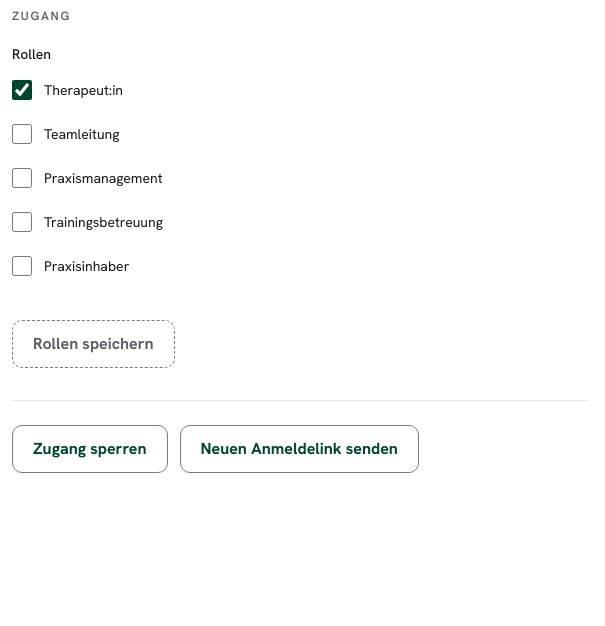
StaffAccountSection - bestehender Zugang › sperrt erst nach der Rückfrage und bestätigt es
What coordinates should you click on to do the following:
click the button "Zugang sperren"
I would click on:
 (90, 449)
Its box is [12,425,168,473].
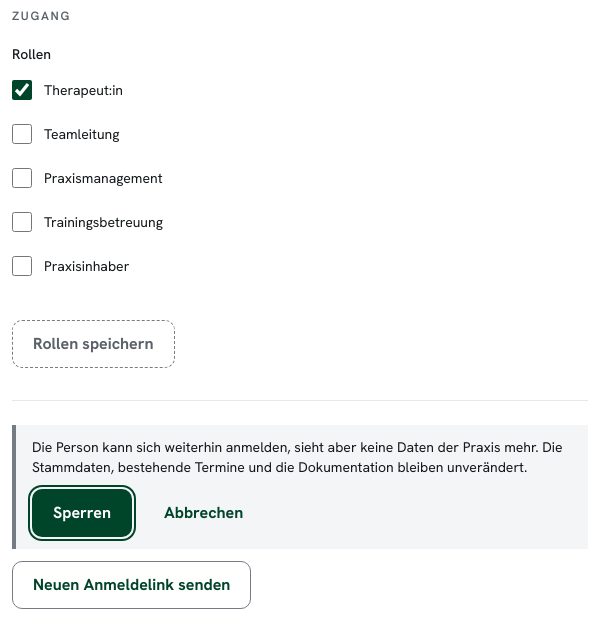
What coordinates should you click on to do the following:
click the button "Sperren"
I would click on:
 (82, 513)
Its box is [32,489,132,537].
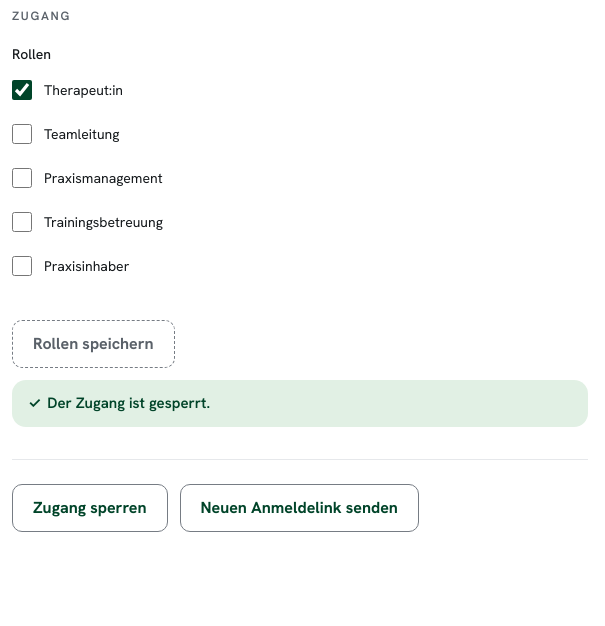
Check: the text "Der Zugang ist gesperrt." is shown, box [47,393,210,413]
